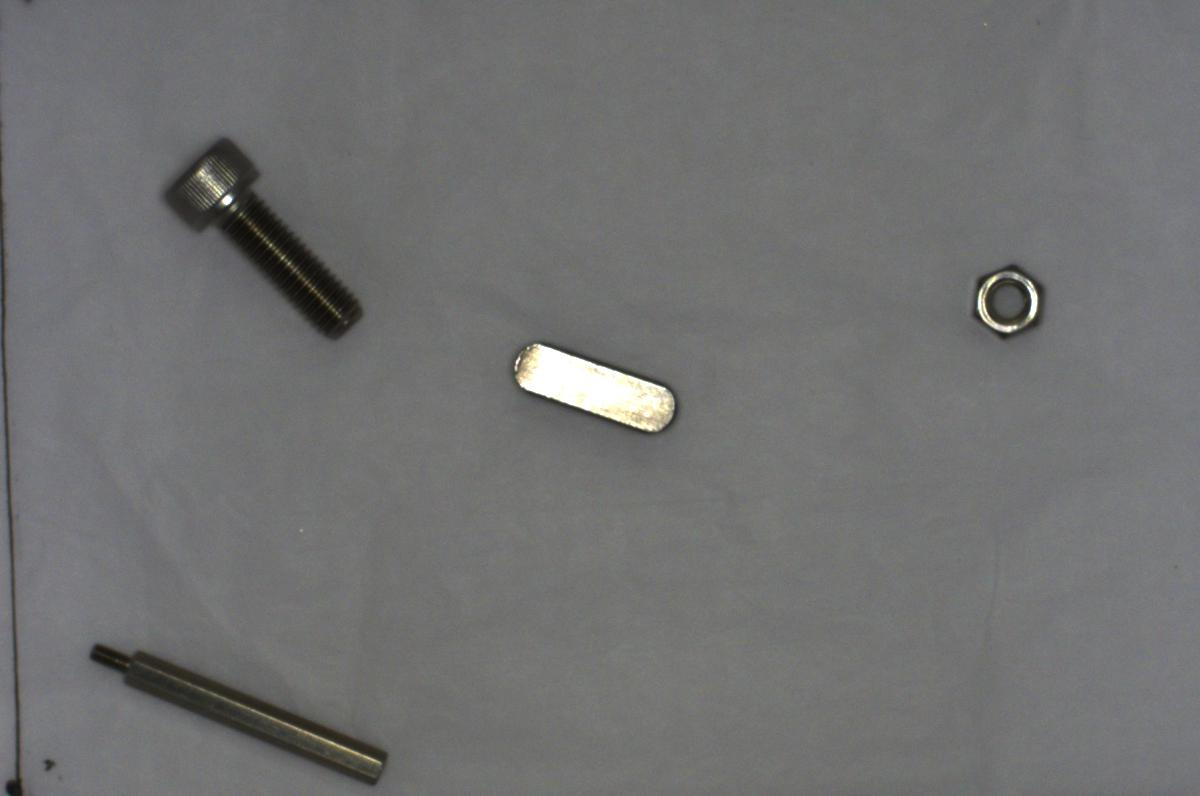Hexagon nut: (961, 259, 1047, 343)
Hexagon screw: (159, 129, 370, 341)
Hexagonal steel column: (74, 632, 392, 786)
Keybar: (507, 335, 678, 440)
